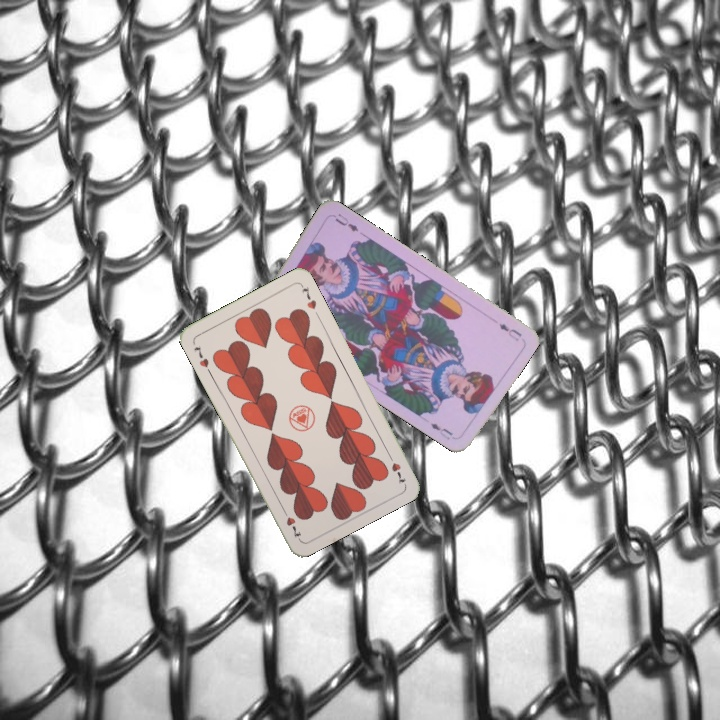EU: (494, 319, 524, 343)
H7: (384, 449, 408, 487), (190, 341, 214, 376)
